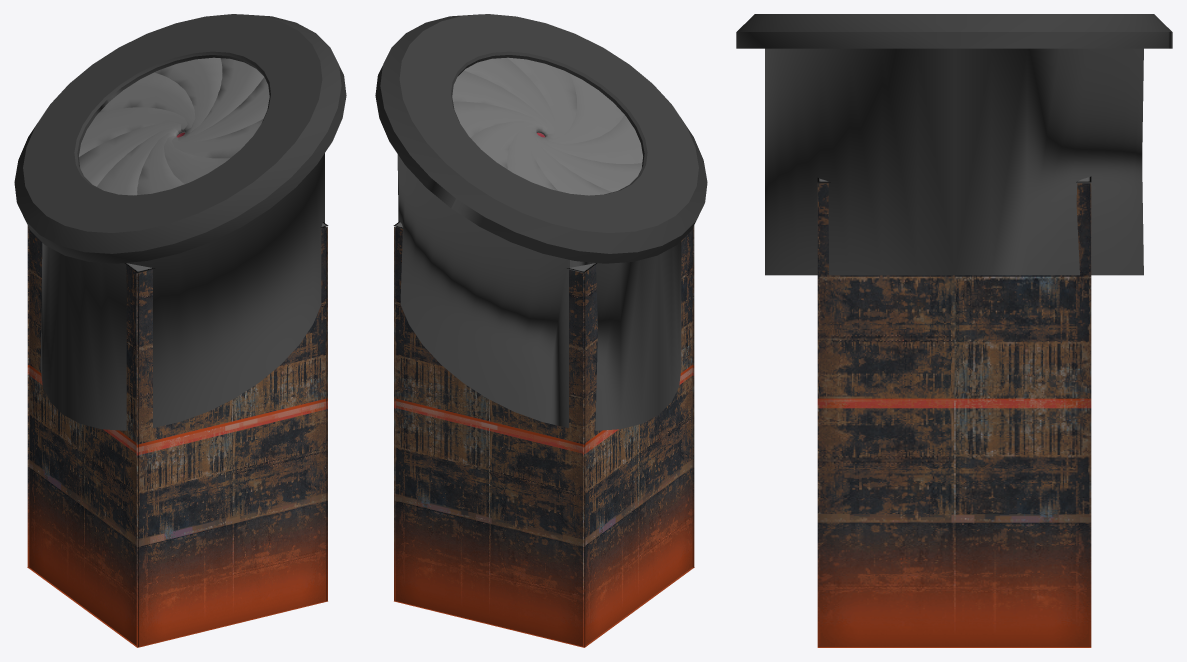
The model's file is incinerator.obj.
3 renders of one model, left to right at view 1: azimuth 30°, elevation 25°; view 2: azimuth 150°, elevation 25°; view 3: azimuth 270°, elevation 25°, orthographic. The views are drawn at different scales.
Visible parts, largest first — view 1: incinerator.mdl/incinerator.smd; view 2: incinerator.mdl/incinerator.smd; view 3: incinerator.mdl/incinerator.smd.
Part boxes in pixels (x1,y1,x2,y2): incinerator.mdl/incinerator.smd: (14, 14, 346, 647); incinerator.mdl/incinerator.smd: (375, 14, 707, 647); incinerator.mdl/incinerator.smd: (736, 14, 1172, 647).
Bounding box in the file's own units: 2.94 × 5.23 × 3.18.
